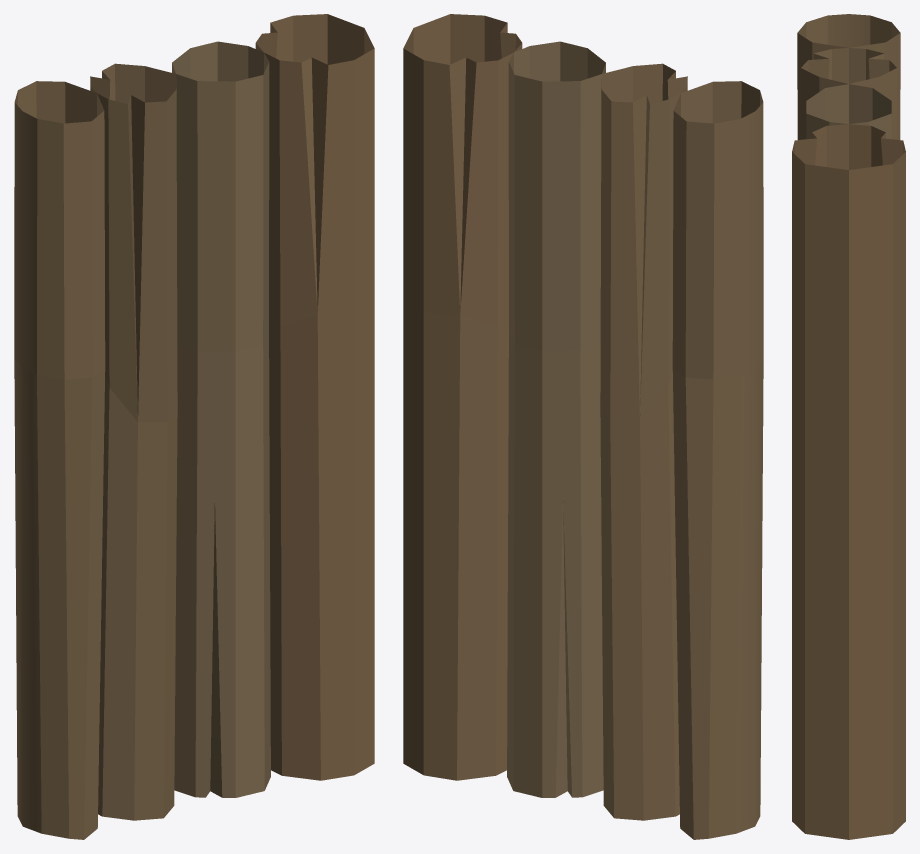
Rendered from rpgpp_ag_wall_02_1.5x3_a.fbx.
3 renders of one model, left to right at view 1: azimuth 30°, elevation 25°; view 2: azimuth 150°, elevation 25°; view 3: azimuth 270°, elevation 25°, orthographic. The views are drawn at different scales.
Parts seen in each view (by area): view 1: rpgpp_ag_wall_02_1.5x3_a; view 2: rpgpp_ag_wall_02_1.5x3_a; view 3: rpgpp_ag_wall_02_1.5x3_a.
Part boxes in pixels (x1,y1,x2,y2): rpgpp_ag_wall_02_1.5x3_a: (14, 14, 374, 839); rpgpp_ag_wall_02_1.5x3_a: (403, 14, 763, 839); rpgpp_ag_wall_02_1.5x3_a: (792, 14, 905, 839).
Bounding box in the file's own units: 1.5 × 3 × 0.4626.
